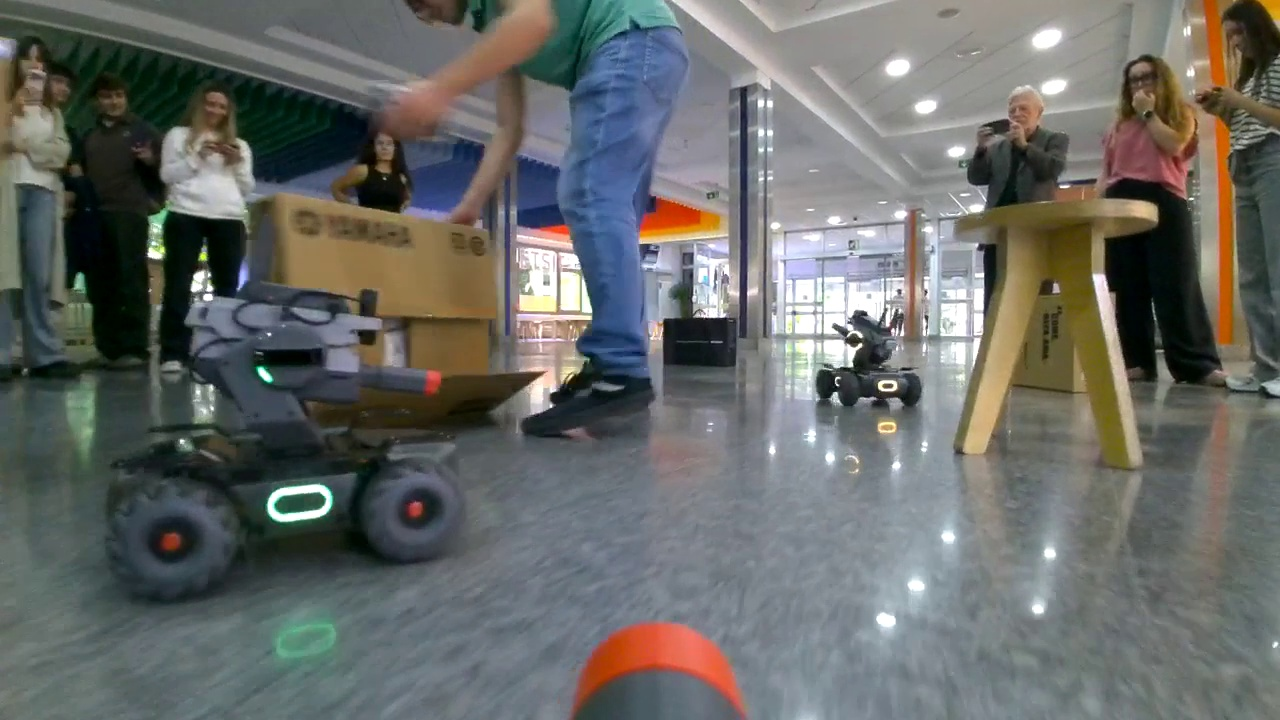robot: (101, 283, 470, 605), (813, 303, 925, 410)
